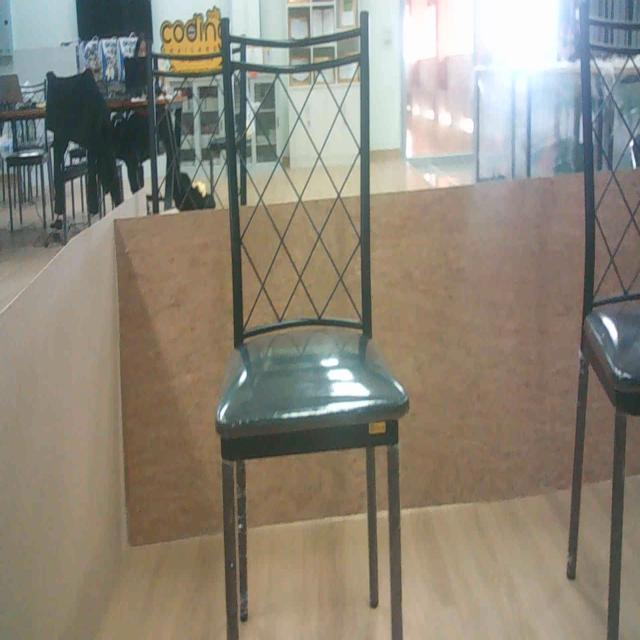emtpy: (209, 10, 403, 640)
